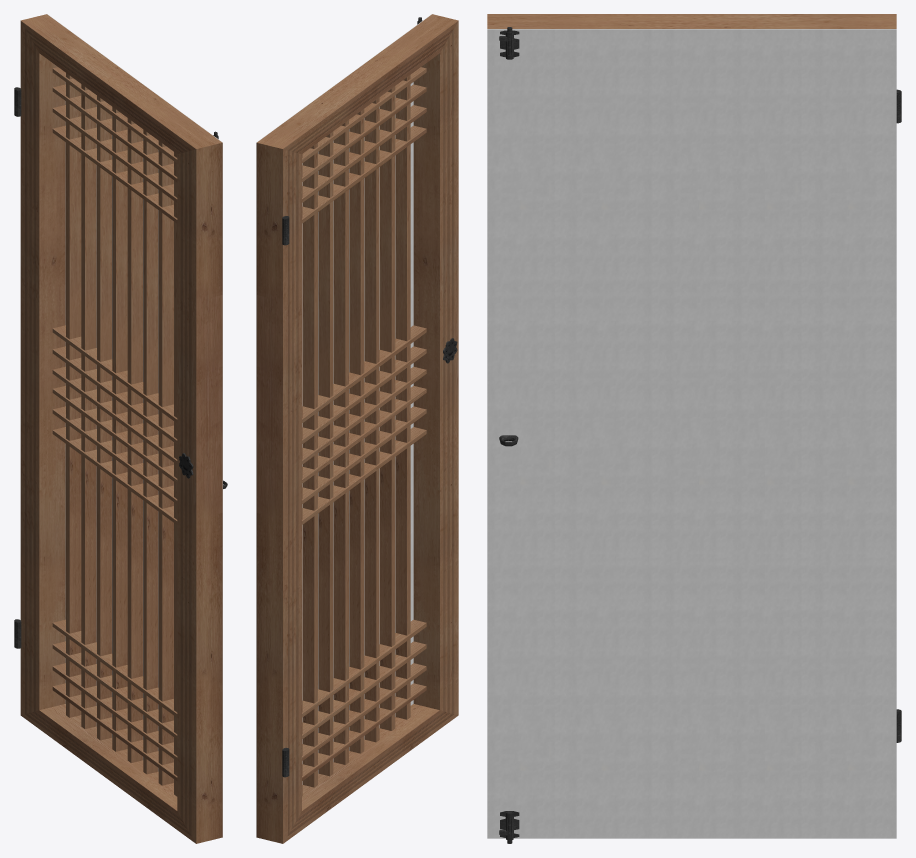
File: SM_JSH_WindowA.fbx
3 renders of one model, left to right at view 1: azimuth 30°, elevation 25°; view 2: azimuth 150°, elevation 25°; view 3: azimuth 270°, elevation 25°, orthographic. The views are drawn at different scales.
Visible parts, largest first — view 1: SM_JSH_WindowA; view 2: SM_JSH_WindowA; view 3: SM_JSH_WindowA.
Boxes of the visible parts, box(x1,y1,x2,y2) form: SM_JSH_WindowA: box(14, 14, 227, 843); SM_JSH_WindowA: box(256, 14, 458, 843); SM_JSH_WindowA: box(487, 14, 901, 843).
Size of the model in its own units: 9.65 by 66.74 by 145.
1 material, 1 textured.
